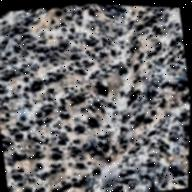boar: (94, 76, 112, 100)
